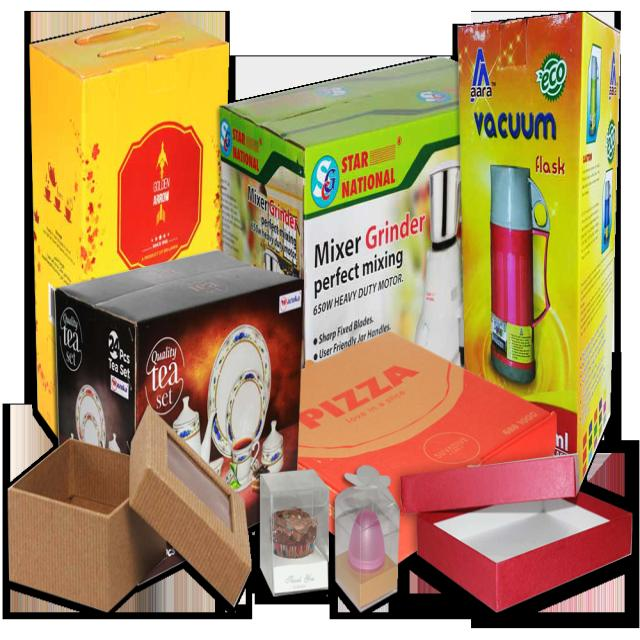cardboard: (28, 11, 229, 434), (218, 55, 464, 367), (457, 11, 621, 476), (53, 247, 302, 531), (296, 325, 556, 565), (4, 438, 166, 613), (416, 485, 632, 611), (129, 407, 250, 609), (399, 447, 578, 513)
